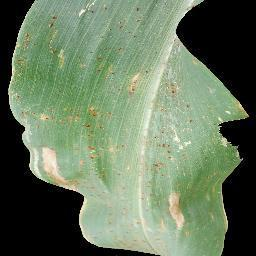Corn_Common_Rust: (14, 0, 132, 197), (146, 39, 252, 249), (72, 192, 156, 247), (133, 64, 148, 100)
